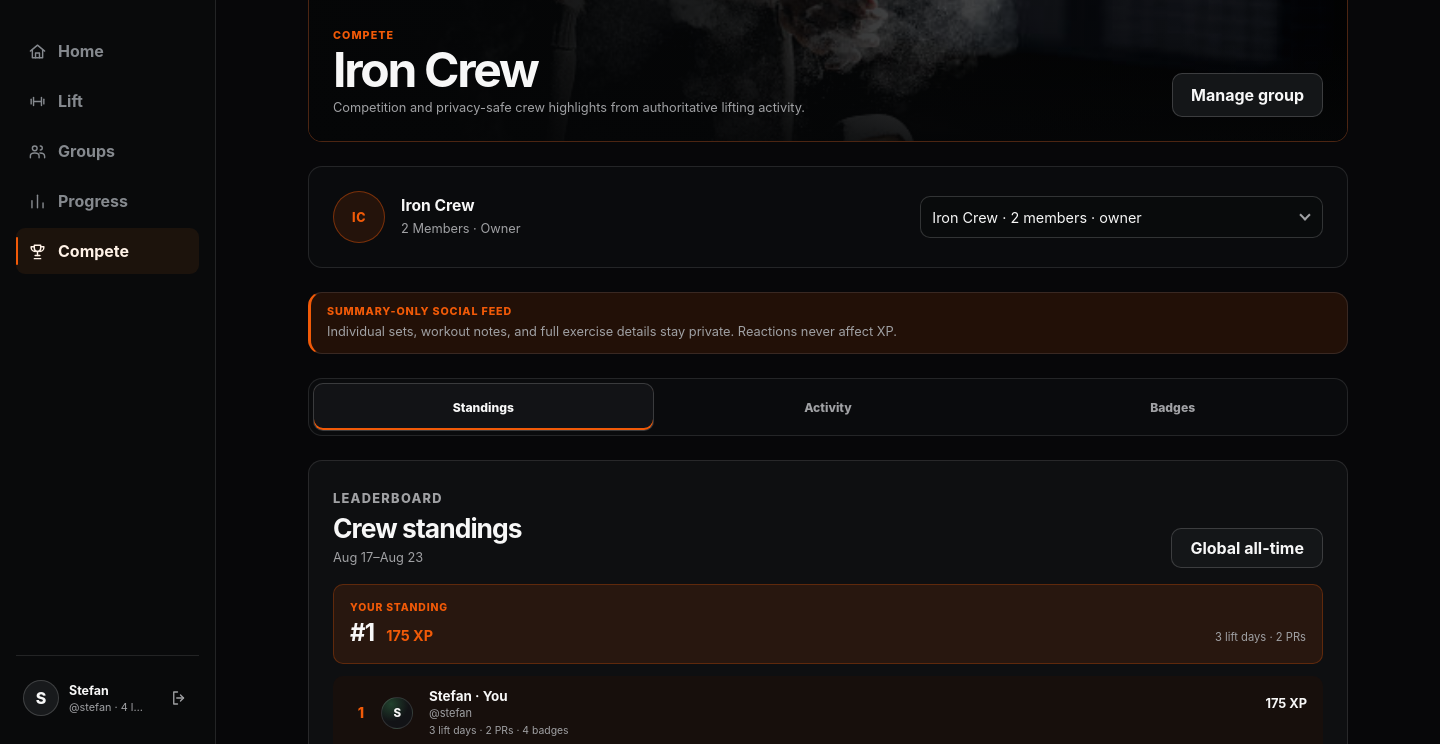
GroupSocialScreen › offers quiet report controls only within the group social experience
Click the tab "Activity". click: (828, 407)
box: [658, 383, 998, 431]
(page scrolled)
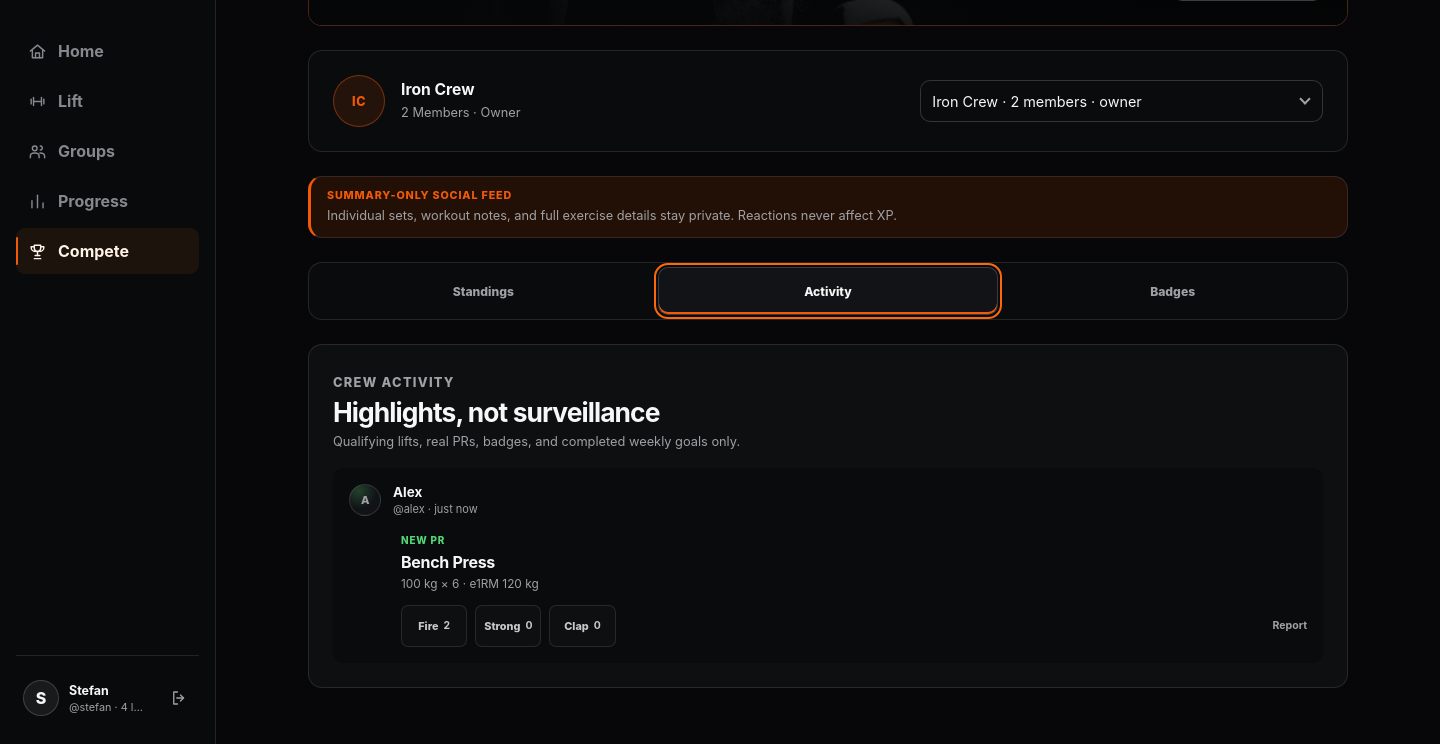
Click the button with aria-label "Report this activity". click: (1290, 626)
box: [1272, 608, 1307, 644]
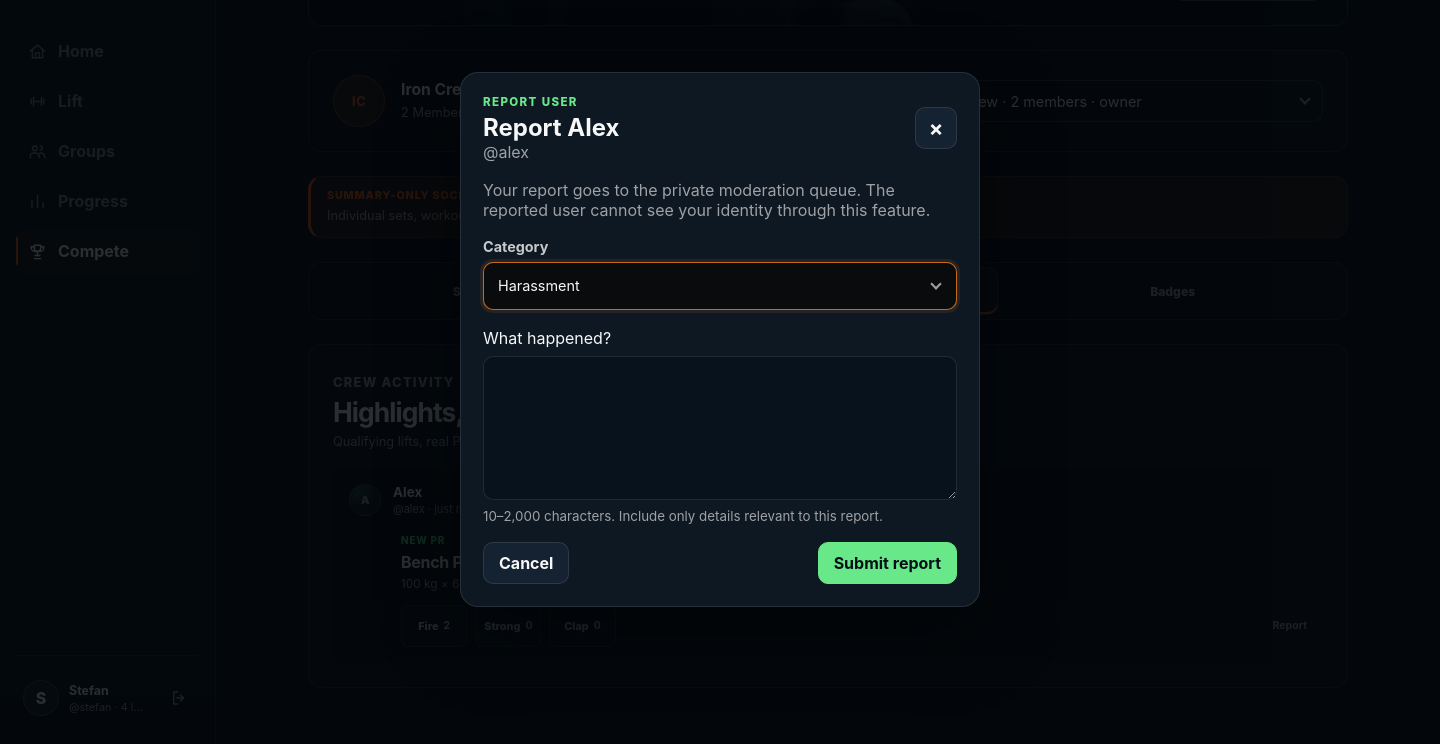
Type "This visible group activity needs moderator review." into the text box labelled "What happened?". click: (720, 428)
box: [483, 356, 957, 500]
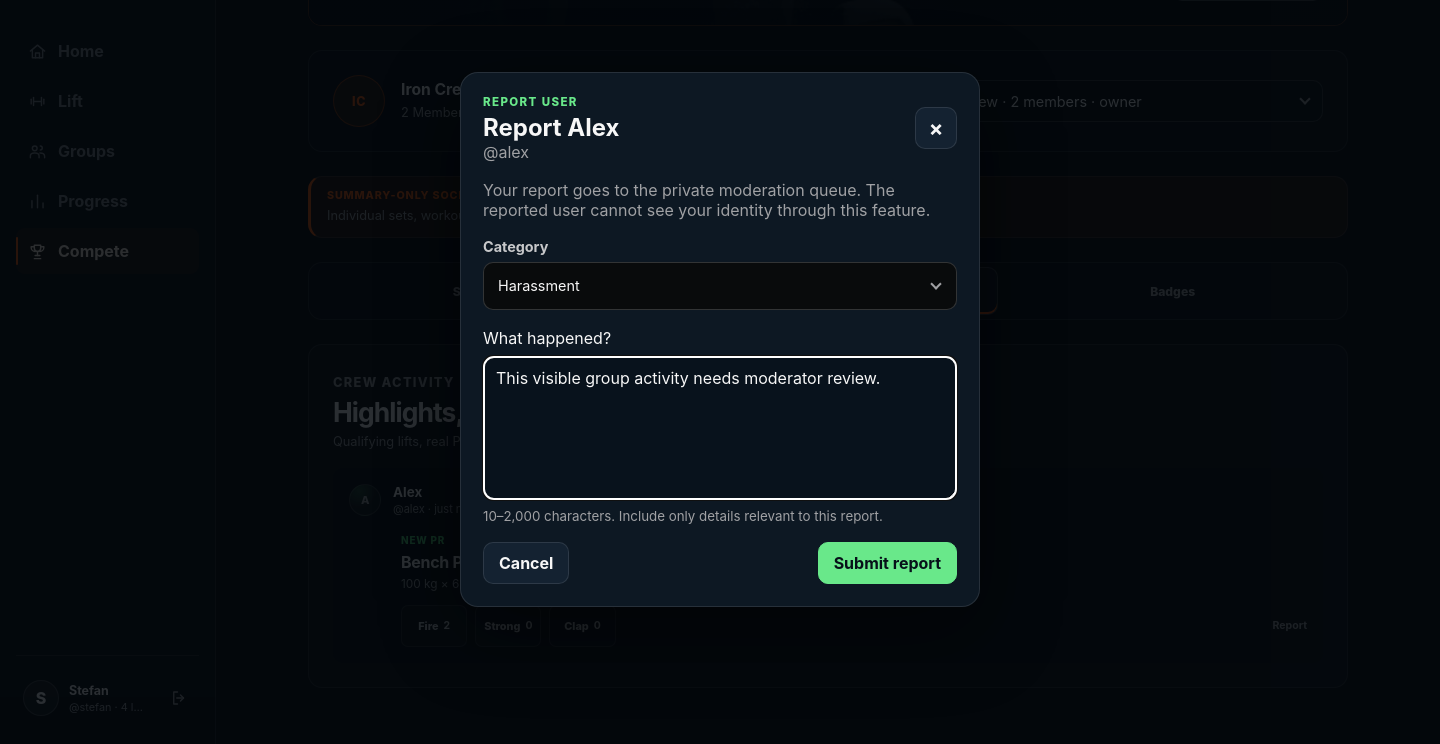
Click the button "Submit report". click: (887, 562)
box: [818, 542, 957, 584]
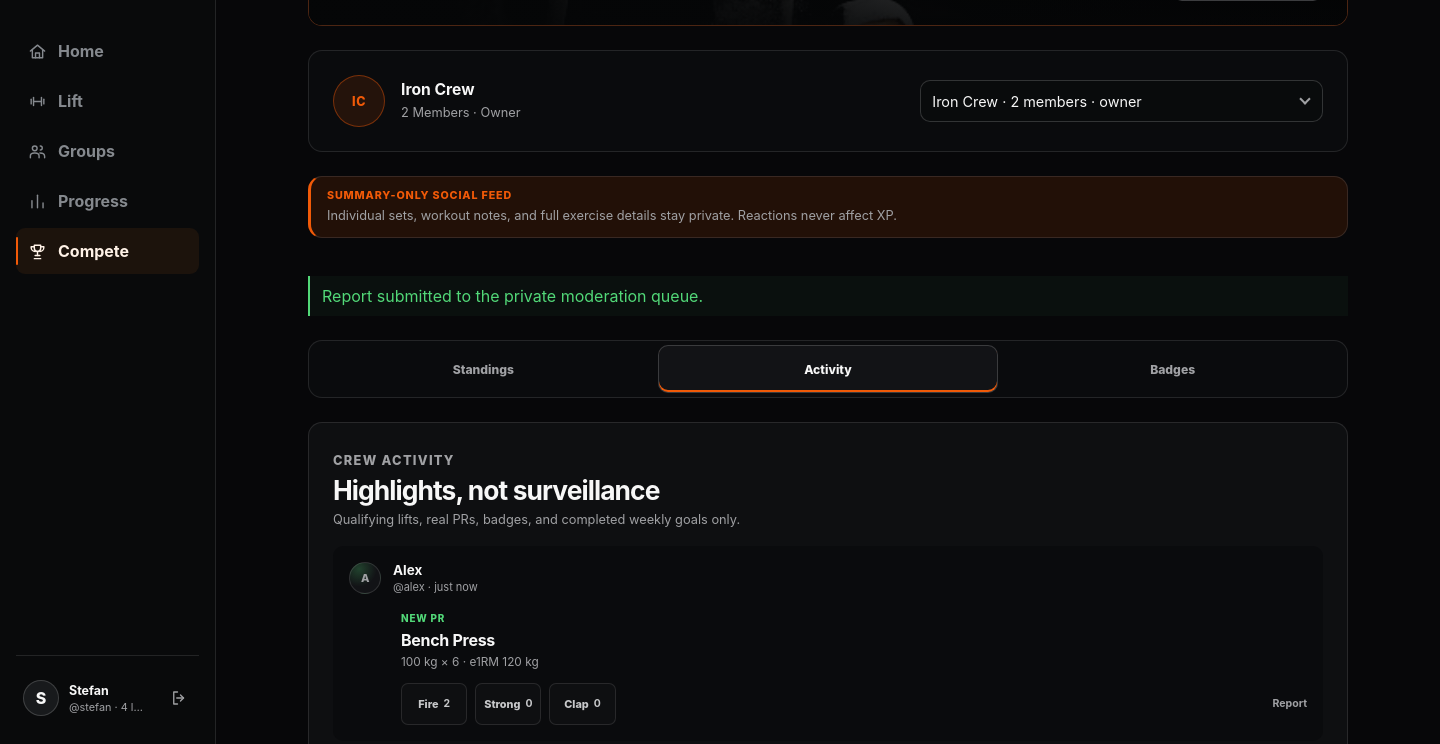
Result: the message shows "private moderation queue" at [322, 286, 703, 306]
